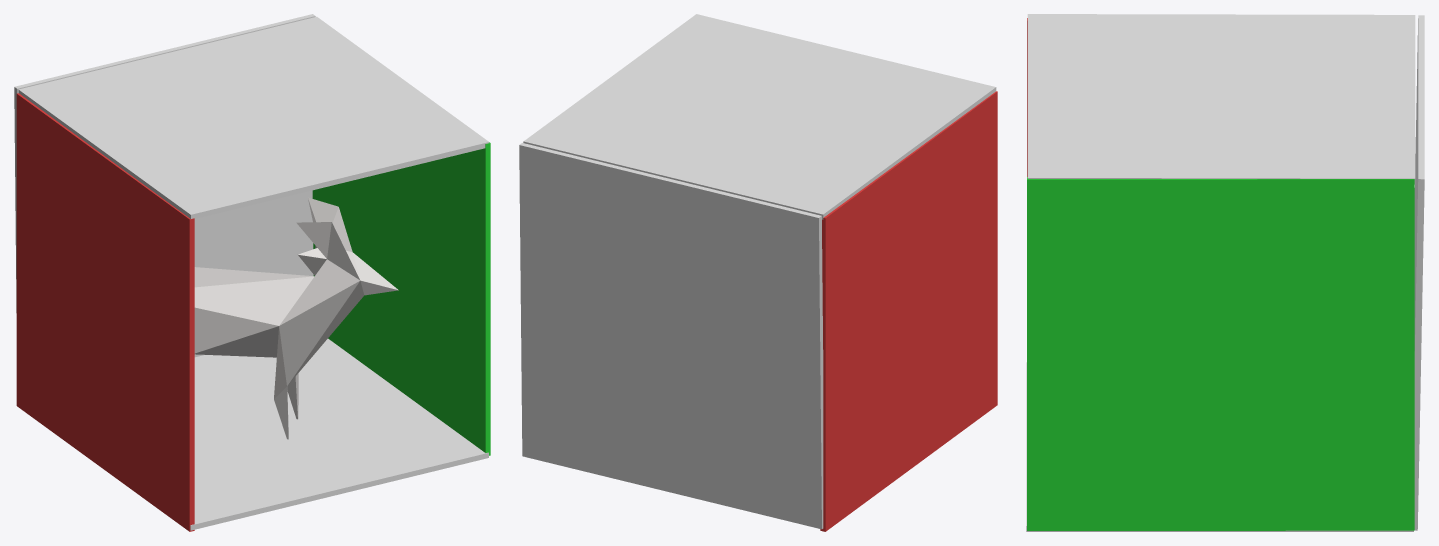
File: DeerDecimatedBox.gltf
The picture shows the model from 3 angles, left to right: view 1: azimuth 30°, elevation 25°; view 2: azimuth 150°, elevation 25°; view 3: azimuth 270°, elevation 25°; orthographic projection. The views are drawn at different scales.
Visible parts, largest first — view 1: Cube.005, Cube.003, Cube.004, Cube, Cube.001, Cube.002; view 2: Cube.002, Cube.005, Cube.003; view 3: Cube.004, Cube.003, Cube.002, Cube.
Part boxes in pixels (bbox=[...]): Cube.005: bbox=[16, 93, 194, 531]; Cube.003: bbox=[18, 16, 489, 218]; Cube.004: bbox=[312, 142, 490, 455]; Cube: bbox=[190, 338, 488, 530]; Cube.001: bbox=[194, 197, 398, 439]; Cube.002: bbox=[14, 14, 315, 357]; Cube.002: bbox=[519, 143, 823, 529]; Cube.005: bbox=[820, 91, 997, 531]; Cube.003: bbox=[523, 14, 996, 219]; Cube.004: bbox=[1027, 177, 1414, 530]; Cube.003: bbox=[1027, 14, 1415, 184]; Cube.002: bbox=[1414, 15, 1424, 530]; Cube: bbox=[1026, 362, 1413, 531].
Size of the model in its own units: 10.14 by 10.17 by 10.31.
